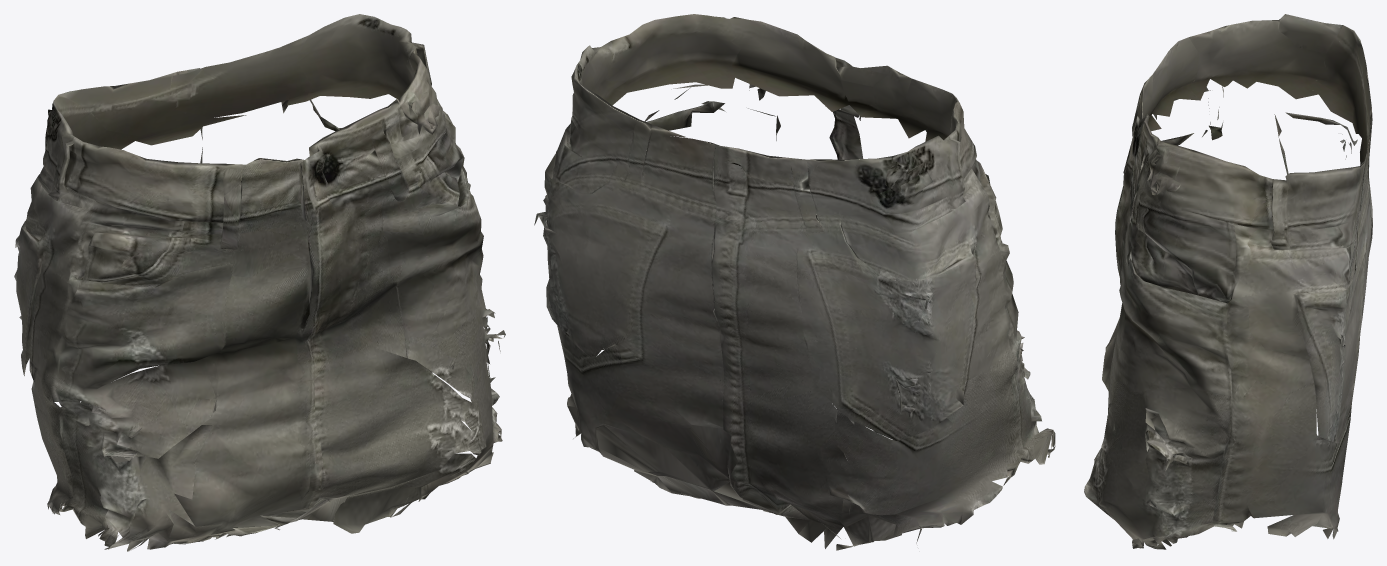
3 views of the same model, side by side, from view 1: azimuth 30°, elevation 25°; view 2: azimuth 150°, elevation 25°; view 3: azimuth 270°, elevation 25° (orthographic).
Visible parts, largest first — view 1: Roupa_007; view 2: Roupa_007; view 3: Roupa_007.
Part boxes in pixels (x1,y1,x2,y2): Roupa_007: [14, 14, 505, 551]; Roupa_007: [534, 14, 1055, 550]; Roupa_007: [1084, 14, 1372, 549].
Size of the model in its own units: 0.3898 by 0.3786 by 0.228.
1 material, 1 textured.
